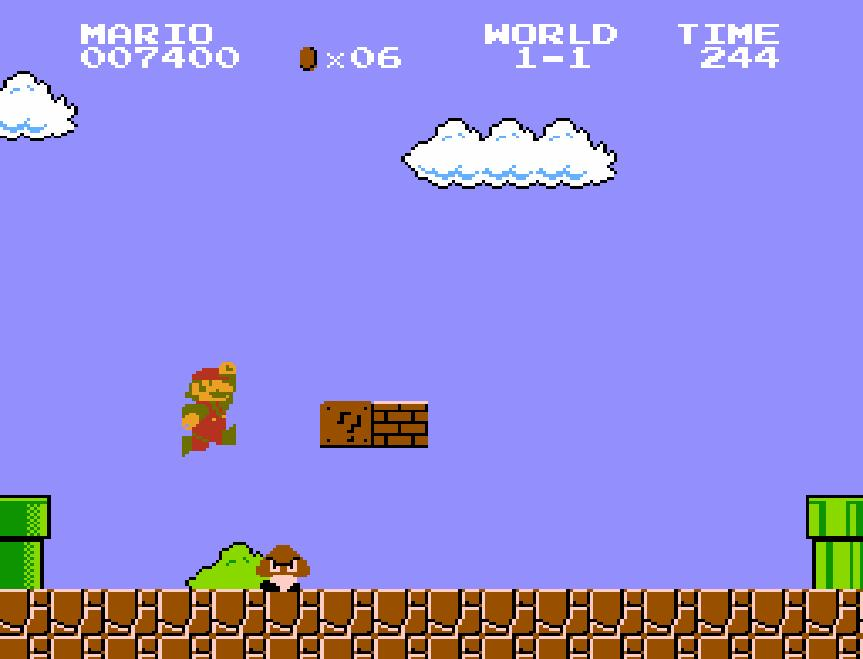big_mario: (179, 360, 237, 458)
